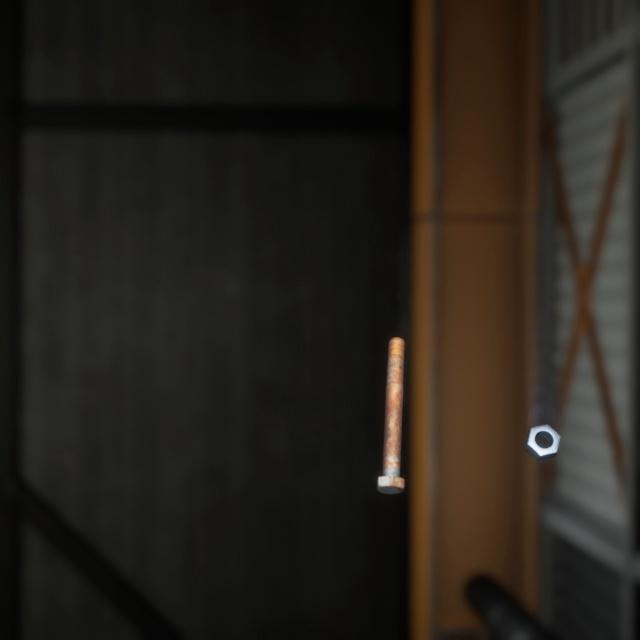bolt: (372, 314, 409, 479)
nut: (520, 399, 565, 444)
